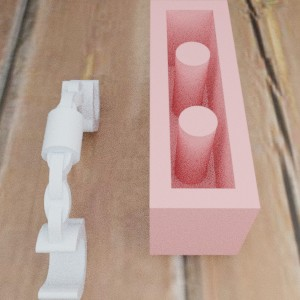lego: (149, 0, 260, 254), (35, 80, 100, 300)
